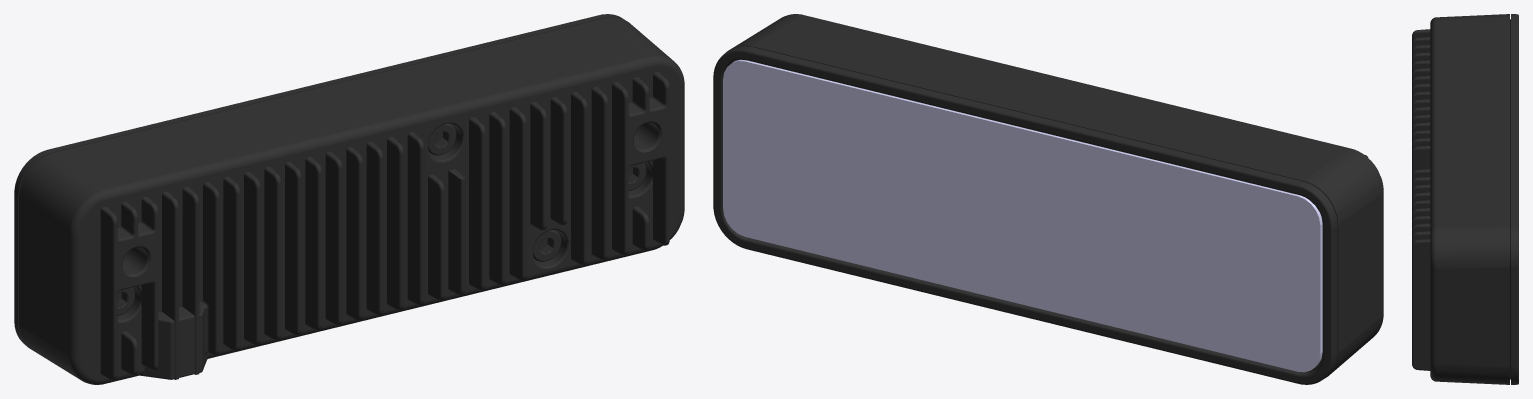
File: depth_camera.dae
3 renders of one model, left to right at view 1: azimuth 30°, elevation 25°; view 2: azimuth 150°, elevation 25°; view 3: azimuth 270°, elevation 25°, orthographic. The views are drawn at different scales.
Visible parts, largest first — view 1: tmp_export_RGBCameraMesh.001; view 2: tmp_export_RGBCameraMesh.001; view 3: tmp_export_RGBCameraMesh.001.
Boxes of the visible parts, bbox=[...] form: tmp_export_RGBCameraMesh.001: bbox=[14, 14, 684, 384]; tmp_export_RGBCameraMesh.001: bbox=[713, 14, 1383, 384]; tmp_export_RGBCameraMesh.001: bbox=[1412, 14, 1518, 384].
Bounding box in the file's own units: 9.1 × 1.74 × 2.8.
